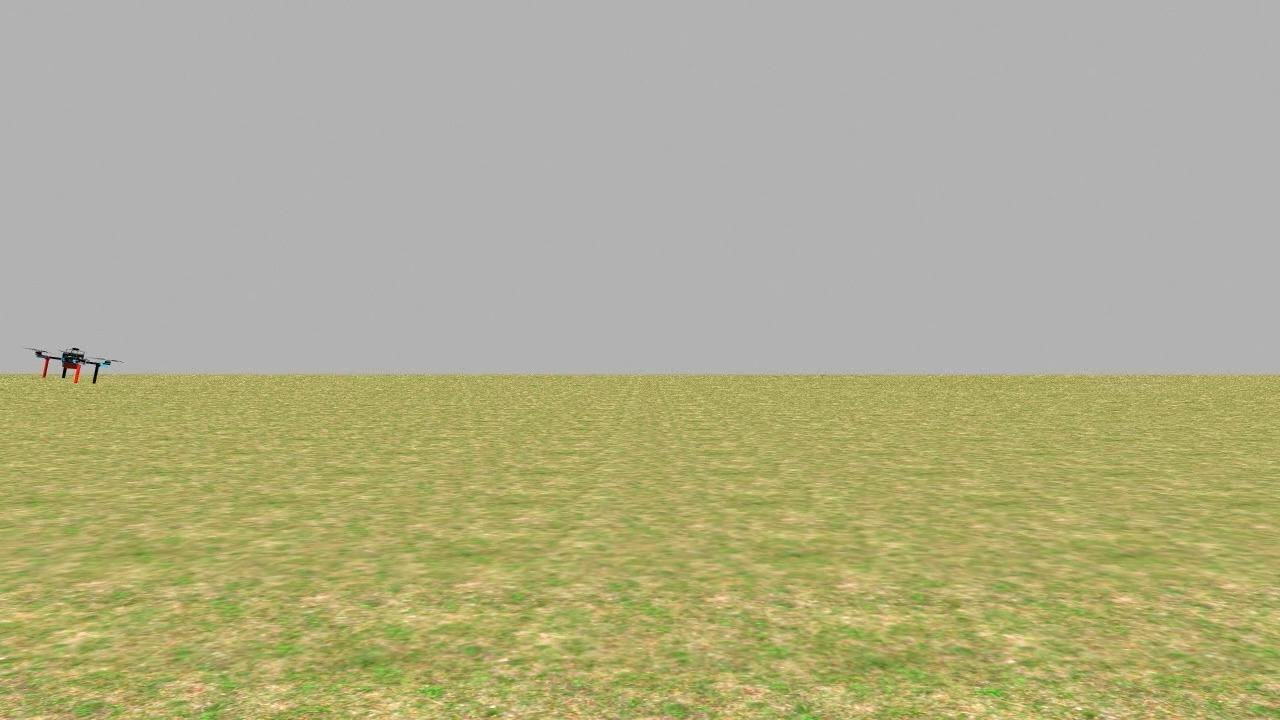UAV: (31, 343, 107, 390)
